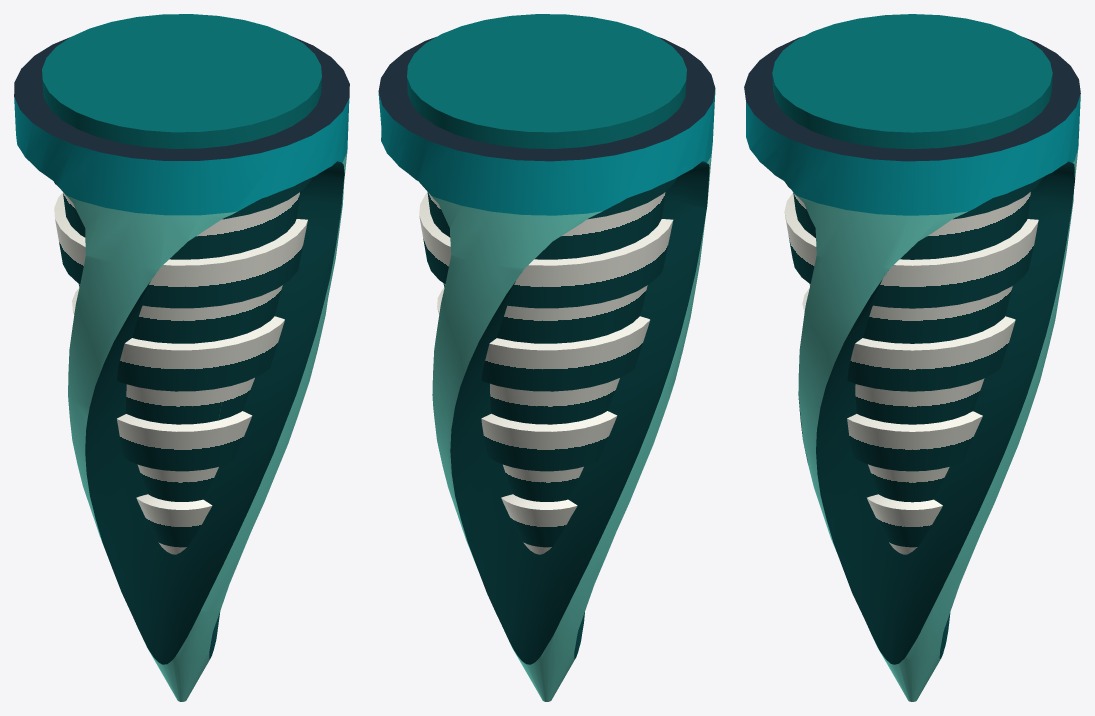
Rendered from Buildings_Building_3.fbx.
The picture shows the model from 3 angles, left to right: view 1: azimuth 30°, elevation 25°; view 2: azimuth 150°, elevation 25°; view 3: azimuth 270°, elevation 25°; orthographic projection.
Visible parts, largest first — view 1: Building_3; view 2: Building_3; view 3: Building_3.
Boxes of the visible parts, x1,y1,x2,y2 form: Building_3: [14, 14, 349, 701]; Building_3: [378, 14, 715, 701]; Building_3: [744, 14, 1080, 701].
Bounding box in the file's own units: 240 × 492 × 240.
